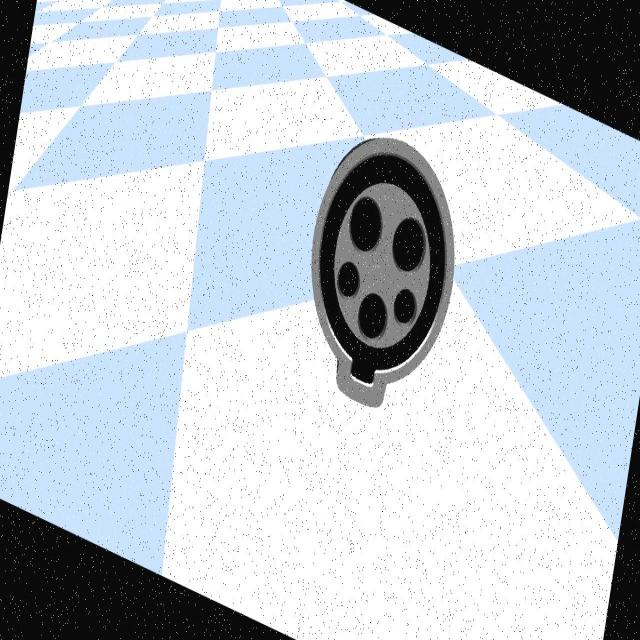Type 1: (298, 94, 468, 450)
